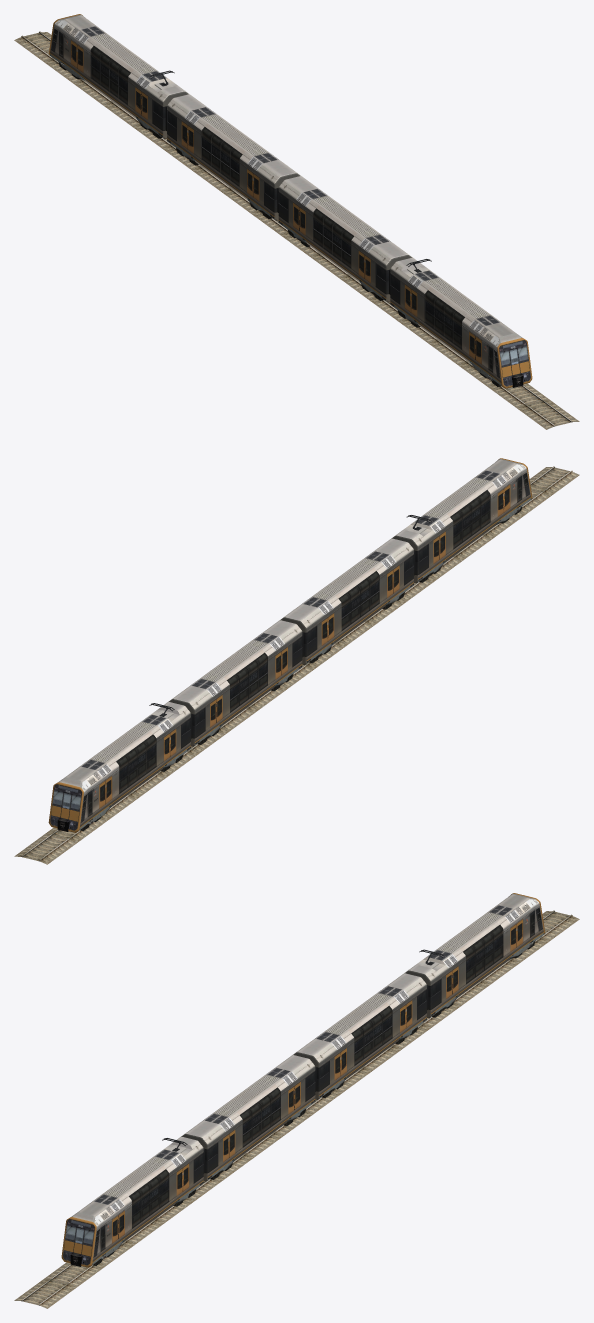
The model's file is tangara_sydney_trains_t_set.glb.
The picture shows the model from 3 angles, top to bottom: view 1: azimuth 30°, elevation 25°; view 2: azimuth 150°, elevation 25°; view 3: azimuth 330°, elevation 25°; orthographic projection.
Visible parts, largest first — view 1: Cube.003_7, Cube_0, Cube.002_6, Cube.001_4, Plane_5; view 2: Cube_0, Cube.003_7, Cube.001_4, Cube.002_6, Plane_5; view 3: Cube.003_7, Cube_0, Cube.002_6, Cube.001_4, Plane_5.
Part boxes in pixels (x1,y1,x2,y2): Cube.003_7: (390, 258, 532, 388); Cube_0: (48, 14, 189, 139); Cube.002_6: (278, 176, 412, 302); Cube.001_4: (167, 94, 300, 220); Plane_5: (14, 31, 579, 429); Cube_0: (48, 702, 190, 832); Cube.003_7: (391, 458, 532, 583); Cube.001_4: (168, 620, 302, 746); Cube.002_6: (280, 538, 413, 664); Plane_5: (14, 466, 579, 864); Cube.003_7: (61, 1137, 203, 1267); Cube_0: (404, 893, 545, 1018); Cube.002_6: (181, 1055, 315, 1181); Cube.001_4: (293, 973, 426, 1099); Plane_5: (14, 910, 579, 1308).
Size of the model in its own units: 1.97 by 3.31 by 54.35.
8 materials, 8 textured.
